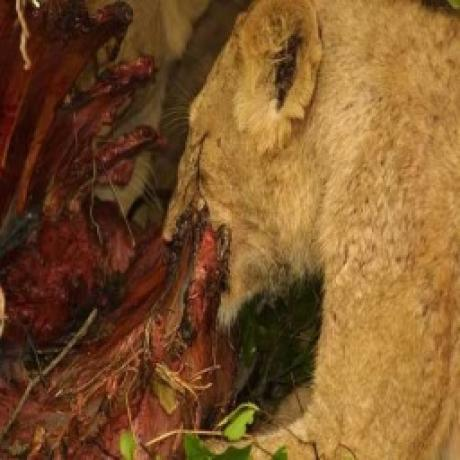Lion: (166, 0, 460, 460)
